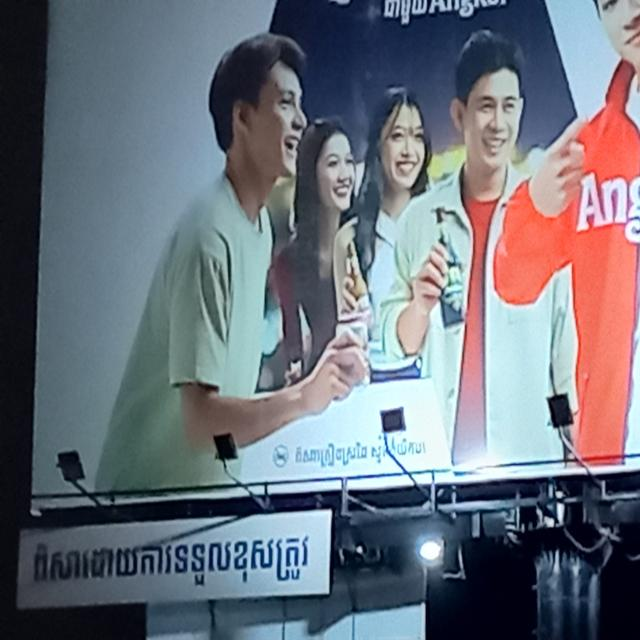Yolov11kh: (25, 523, 320, 599)
